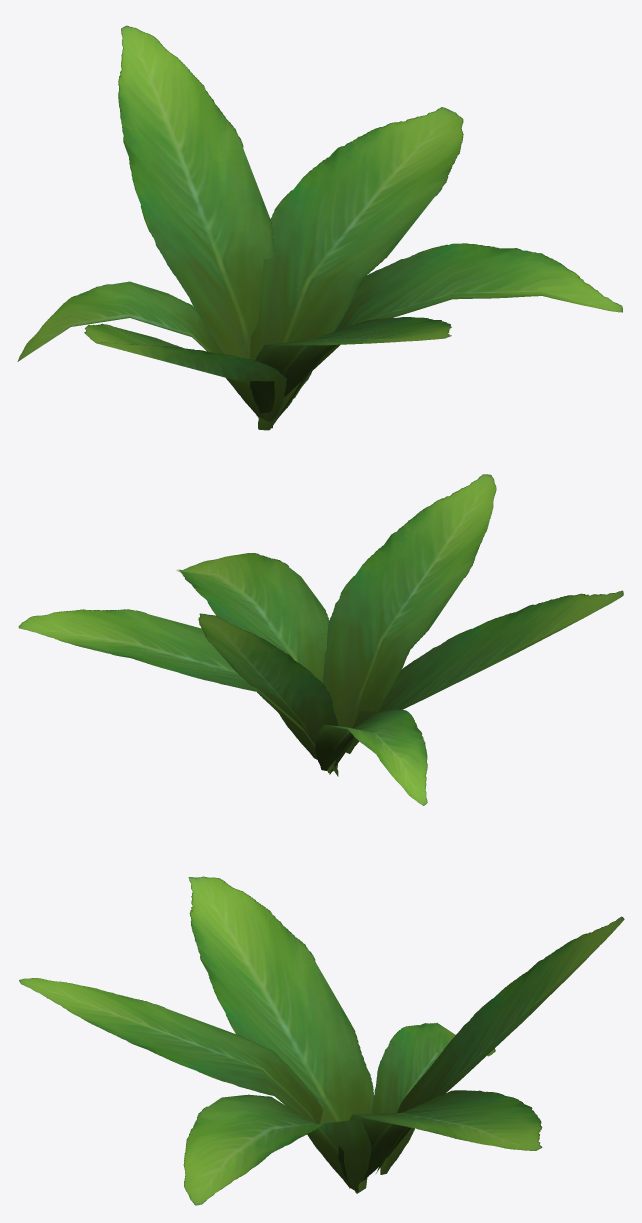
Rendered from sl_lvhua02.FBX.
3 views of the same model, one above another, from view 1: azimuth 30°, elevation 25°; view 2: azimuth 150°, elevation 25°; view 3: azimuth 270°, elevation 25° (orthographic). The views are drawn at different scales.
Visible parts, largest first — view 1: sl_lvhua02; view 2: sl_lvhua02; view 3: sl_lvhua02.
Part boxes in pixels (left/top/right/bottom): sl_lvhua02: left=17, top=25, right=622, bottom=430; sl_lvhua02: left=18, top=474, right=623, bottom=805; sl_lvhua02: left=19, top=876, right=624, bottom=1205.
Bounding box in the file's own units: 257 × 121 × 243.
Materials: 1 (1 with a texture image).
